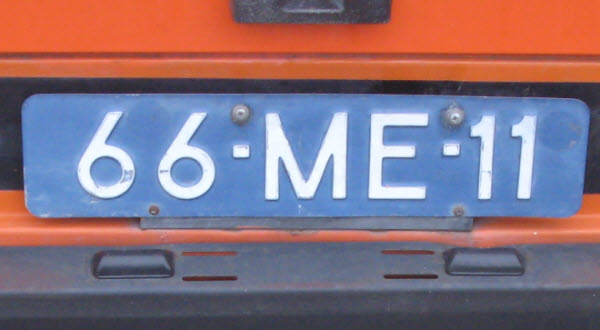license_plate: (22, 93, 590, 216)
